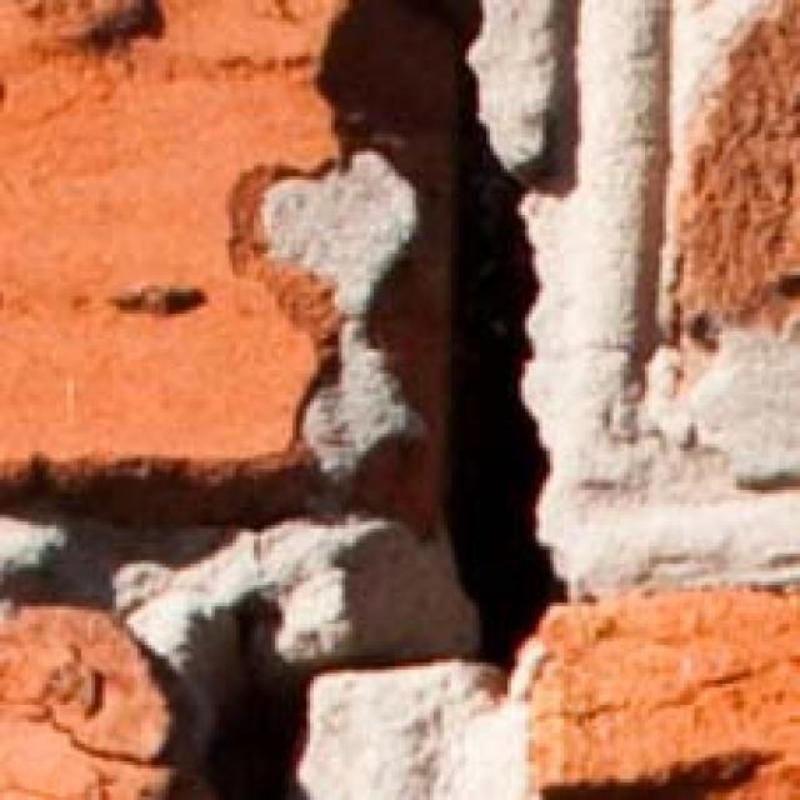pothole: (319, 0, 561, 665), (206, 592, 308, 800)
